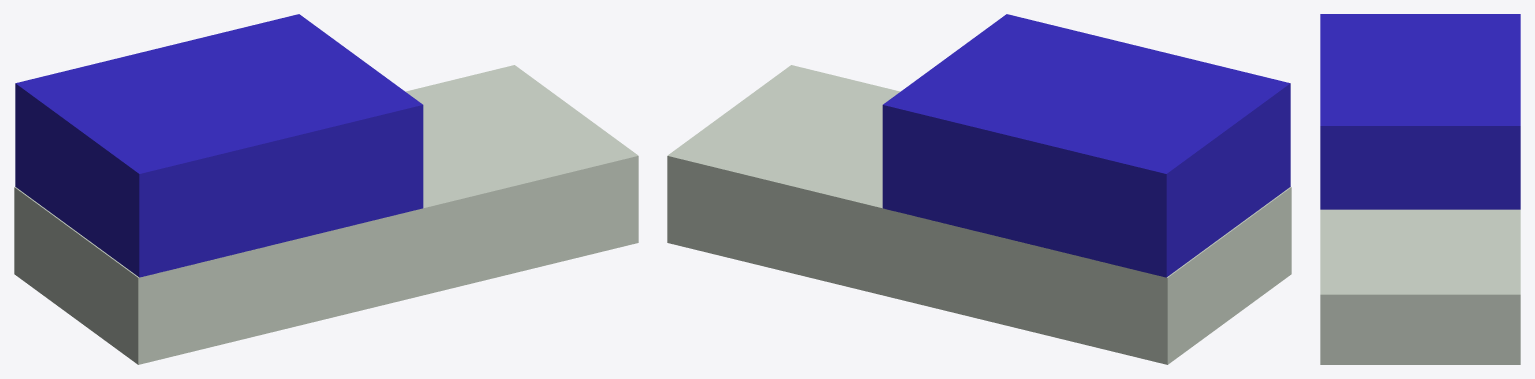
Rendered from Mueble Debajo Escalera.fbx.
3 views of the same model, side by side, from view 1: azimuth 30°, elevation 25°; view 2: azimuth 150°, elevation 25°; view 3: azimuth 270°, elevation 25° (orthographic). The views are drawn at different scales.
Parts seen in each view (by area): view 1: Tope_mueble_debajo_escalera, Mueble_debajo_escalera; view 2: Tope_mueble_debajo_escalera, Mueble_debajo_escalera; view 3: Tope_mueble_debajo_escalera, Mueble_debajo_escalera.
Part boxes in pixels (box(x1,y1,x2,y2)): Tope_mueble_debajo_escalera: box(15, 14, 423, 277); Mueble_debajo_escalera: box(14, 65, 638, 364); Tope_mueble_debajo_escalera: box(882, 14, 1290, 277); Mueble_debajo_escalera: box(667, 65, 1291, 364); Tope_mueble_debajo_escalera: box(1320, 14, 1520, 209); Mueble_debajo_escalera: box(1320, 209, 1520, 364).
Bounding box in the file's own units: 2685 × 977 × 1153.
